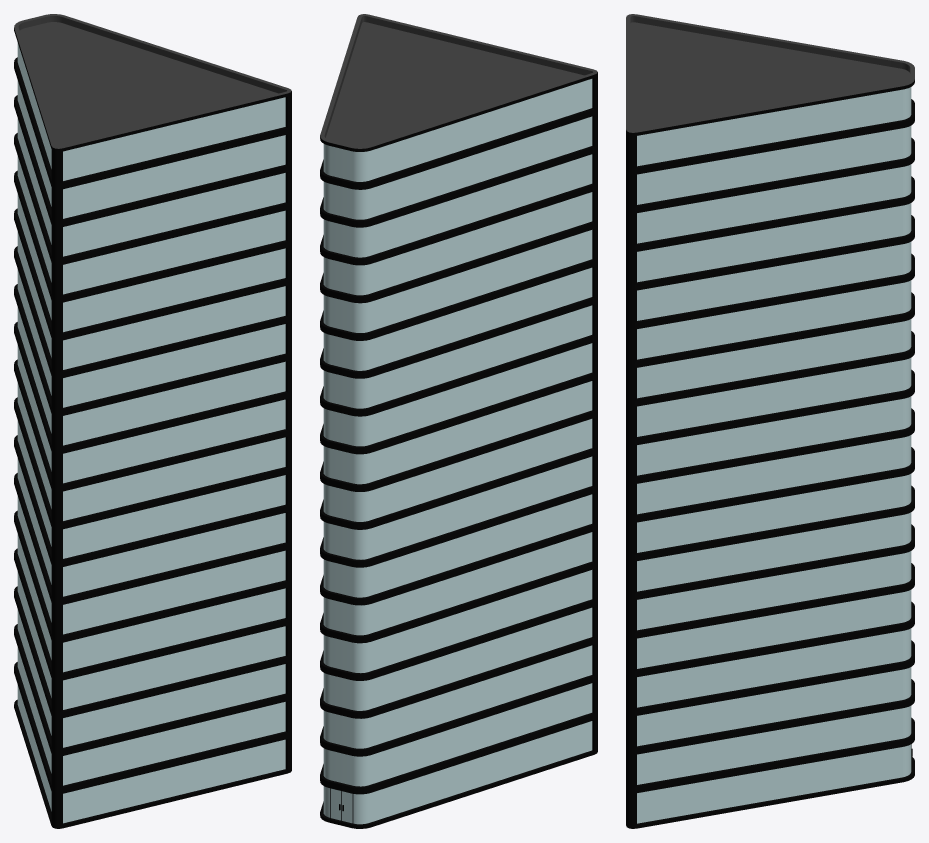
The model's file is Building5.glb.
The picture shows the model from 3 angles, left to right: view 1: azimuth 30°, elevation 25°; view 2: azimuth 150°, elevation 25°; view 3: azimuth 270°, elevation 25°; orthographic projection. The views are drawn at different scales.
Visible parts, largest first — view 1: Cube.005; view 2: Cube.005; view 3: Cube.005.
Boxes of the visible parts, x1,y1,x2,y2 form: Cube.005: (14, 14, 291, 828); Cube.005: (320, 14, 597, 828); Cube.005: (626, 14, 914, 828).
Bounding box in the file's own units: 3.9 × 10.64 × 4.
